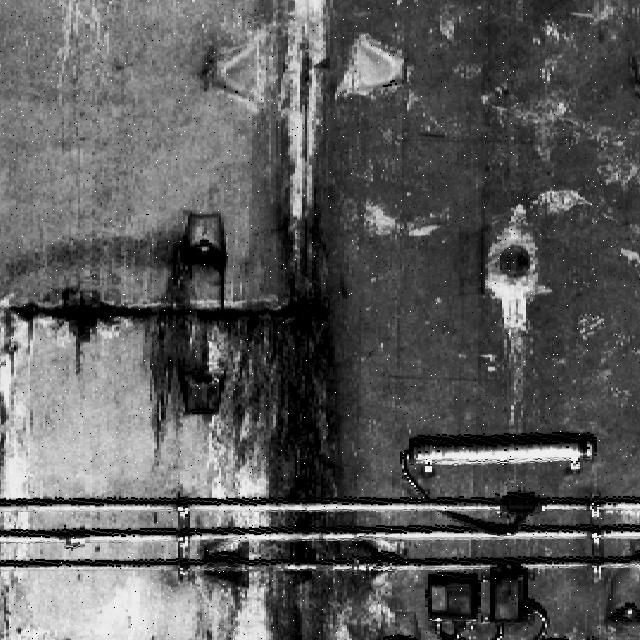leakage: (227, 1, 396, 639), (1, 251, 223, 452)
